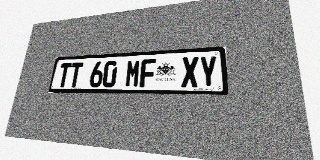0: (102, 60, 118, 87)
6: (89, 61, 105, 87)
F: (139, 59, 156, 87)
M: (125, 59, 141, 87)
T: (68, 62, 83, 87), (57, 63, 72, 87)
X: (181, 56, 199, 87)
Y: (199, 55, 218, 87)
